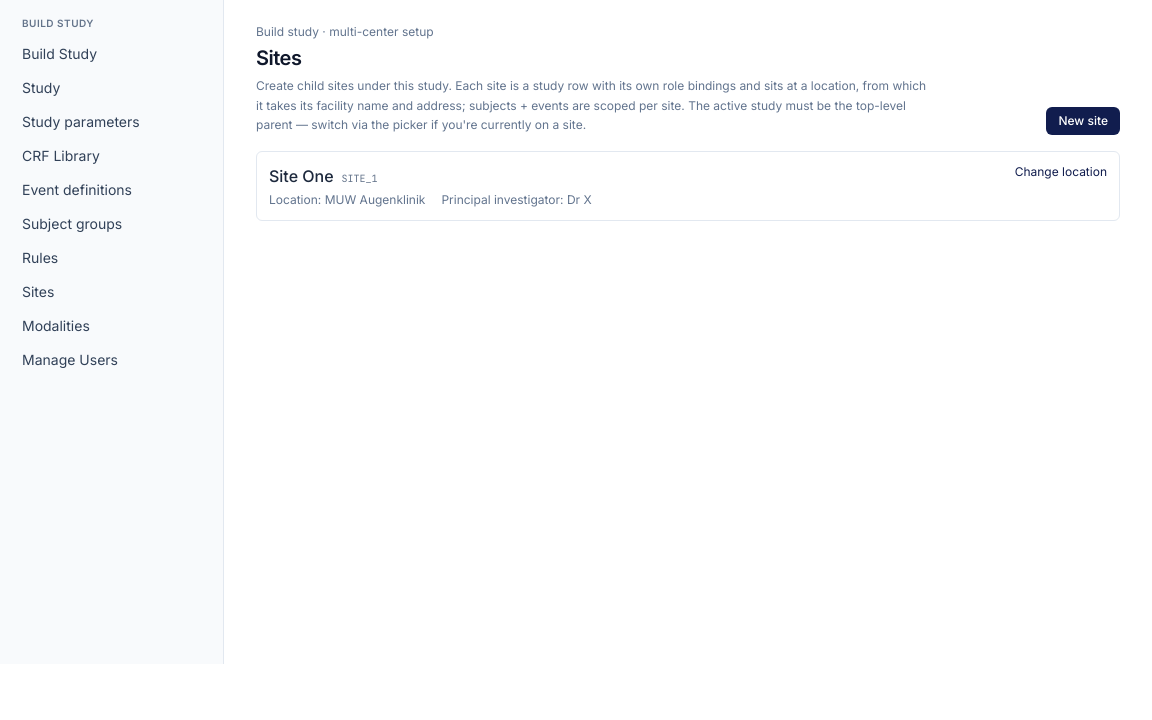
it: SitesView move a site to another location › shows the server’s locationId refusal in the dialog
Click the button with test id "site-move-SITE_1" at coordinates (1061, 172), box [1015,164,1107,180]
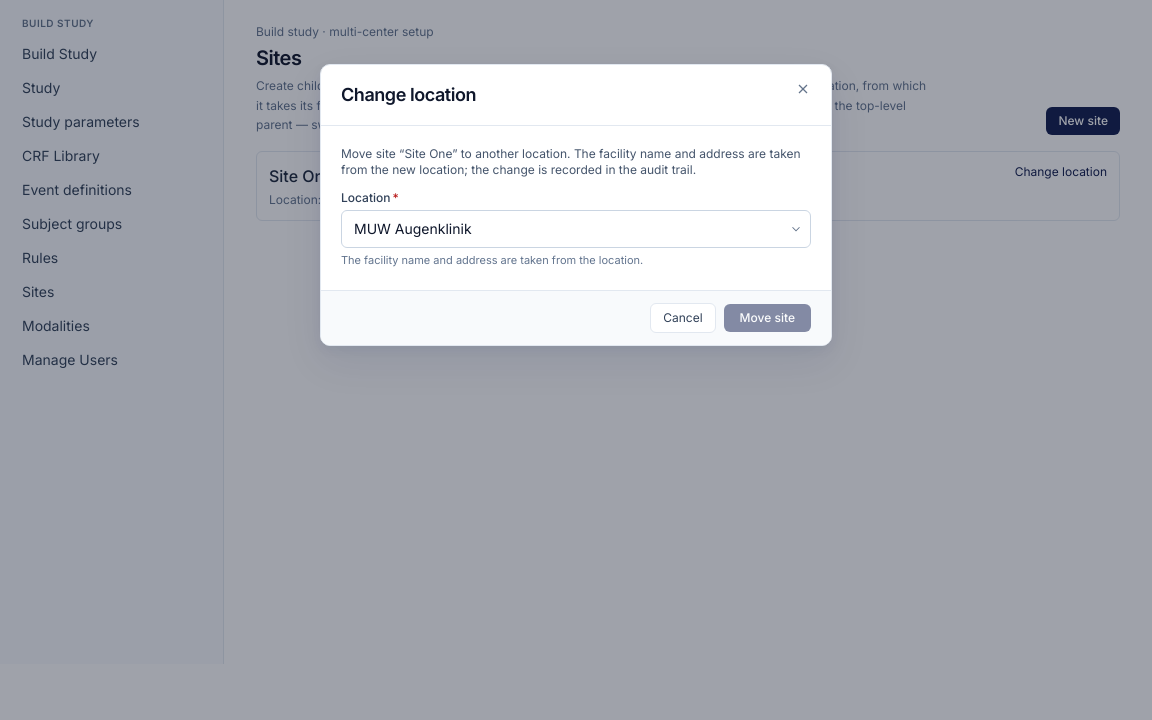
Select "Klinik Graz" in the dropdown with id "site-move-location" at coordinates (576, 229), box [341,210,811,248]
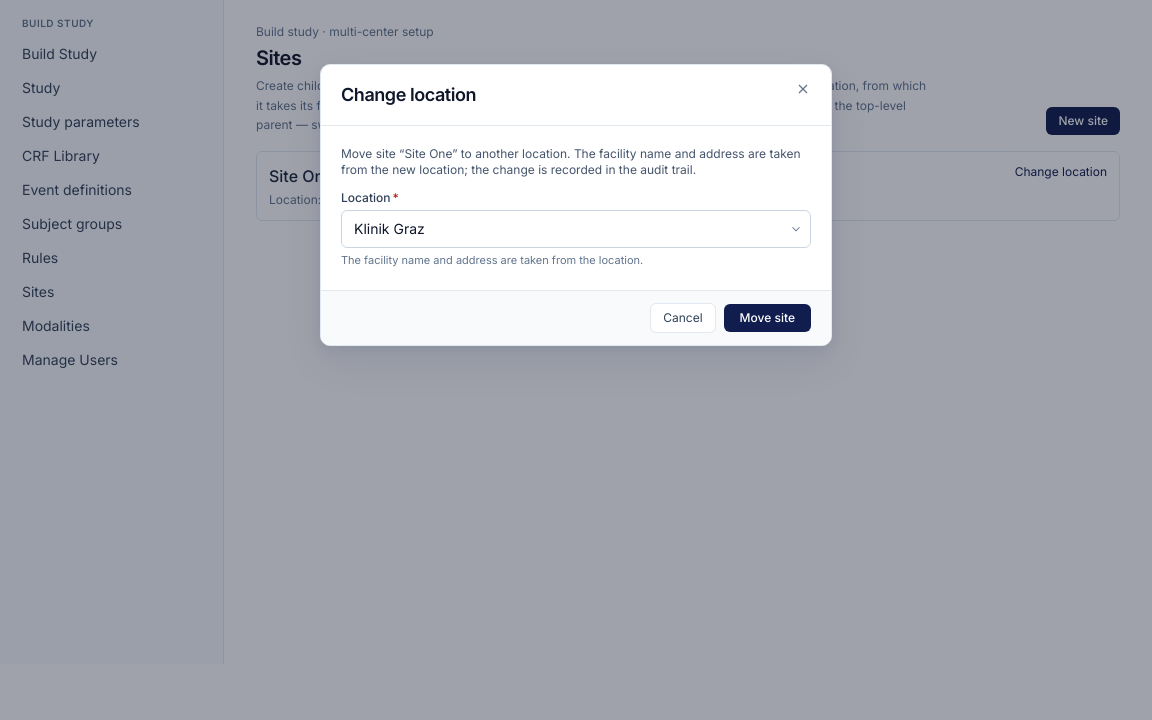
Submit the form with id "site-location-form", box [341,146,811,270]
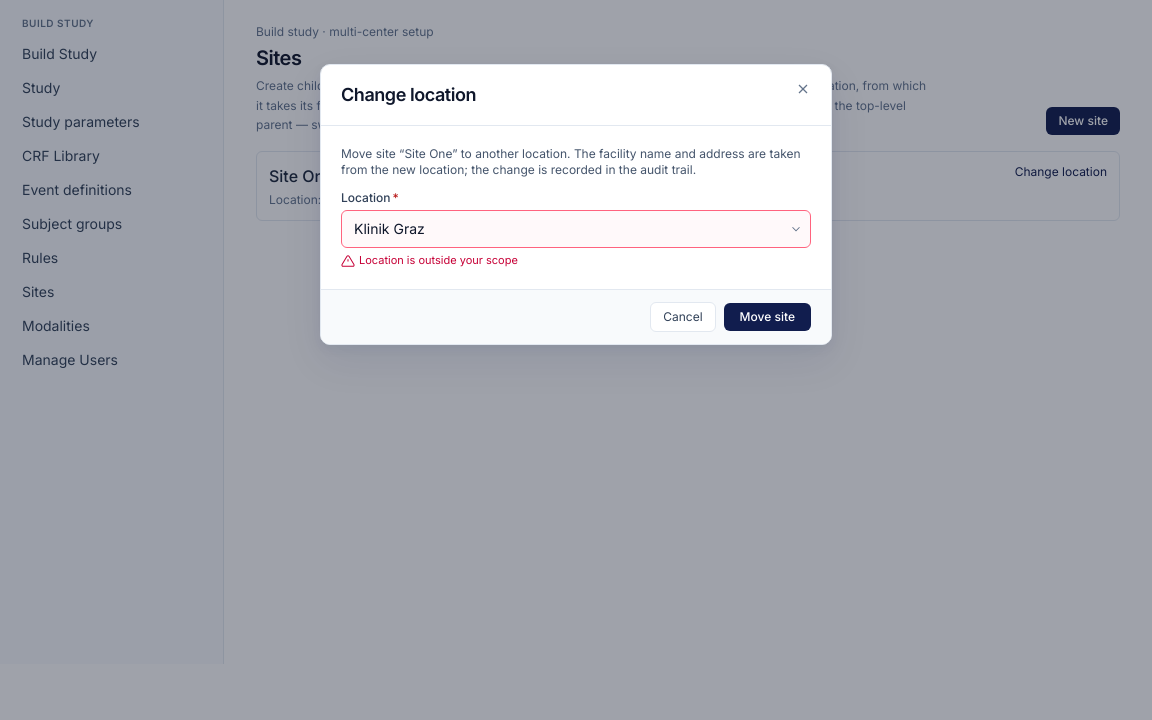
Now the message with test id "site-move-field-error" reads "Location is outside your scope", box [359,253,518,267]
